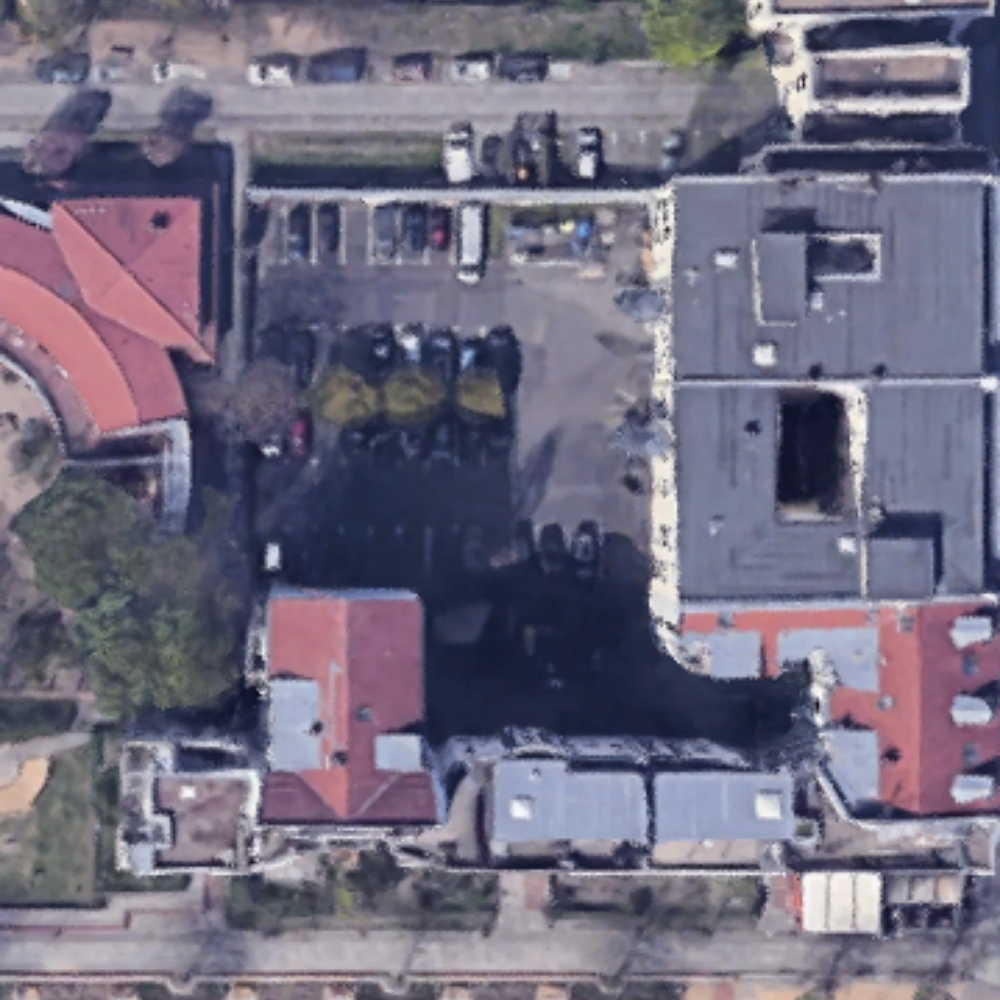parking: (245, 135, 670, 730)
